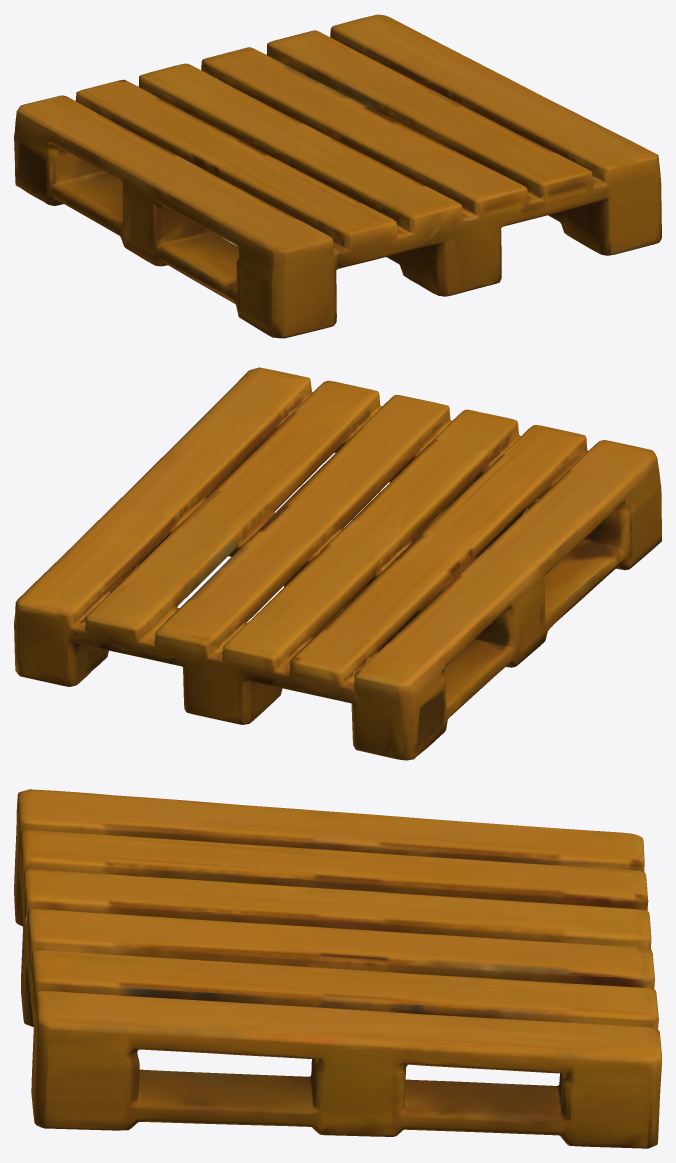
The model's file is pallet.fbx.
The picture shows the model from 3 angles, top to bottom: view 1: azimuth 30°, elevation 25°; view 2: azimuth 150°, elevation 25°; view 3: azimuth 270°, elevation 25°; orthographic projection. The views are drawn at different scales.
Parts seen in each view (by area): view 1: node_0; view 2: node_0; view 3: node_0.
Part boxes in pixels (<box>): node_0: <box>14,14,661,338</box>; node_0: <box>14,367,661,760</box>; node_0: <box>14,789,661,1148</box>.
Size of the model in its own units: 0.2257 by 0.0628 by 0.2579.
1 material, 1 textured.
